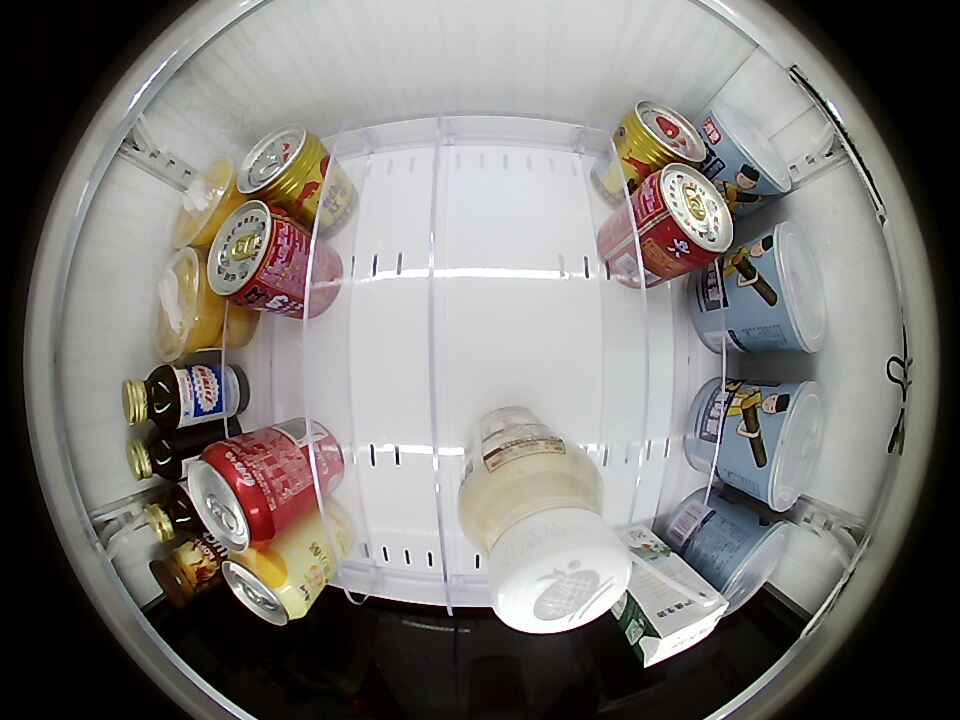haitai: (740, 379, 826, 514), (747, 223, 829, 355), (701, 100, 794, 203), (710, 515, 792, 619)
hongniu: (620, 101, 706, 169)
hongniu2: (237, 124, 327, 205)
jindian: (630, 576, 728, 668)
kele: (188, 444, 276, 551)
libaojian: (121, 363, 183, 431), (142, 484, 200, 545), (126, 432, 185, 483)
lujikafei: (149, 539, 218, 606)
mangguoxiaolao: (223, 548, 308, 626)
wangzainiunai: (633, 164, 734, 271), (208, 201, 305, 307)
weiweidounai: (458, 453, 631, 634)
xianguolao: (154, 249, 218, 360), (174, 157, 239, 249)
